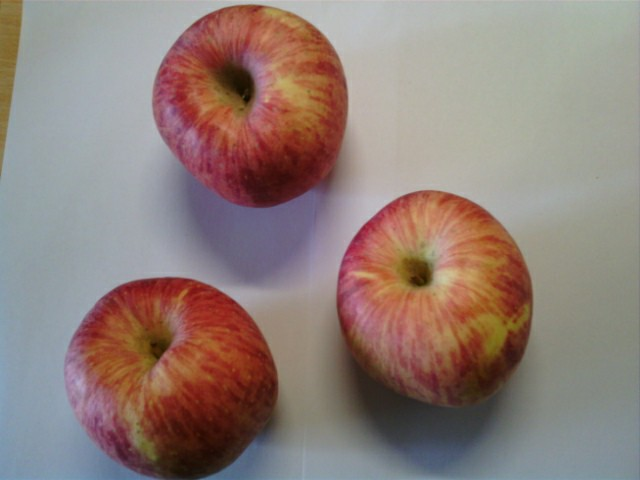normal_apple: (65, 276, 279, 480), (339, 191, 535, 411), (150, 5, 349, 206)
